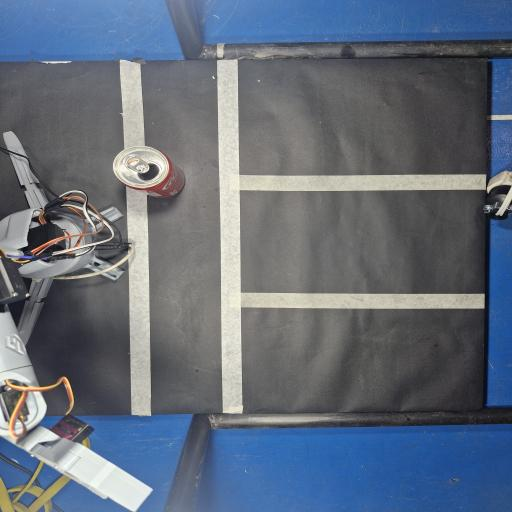lata: (113, 146, 185, 197)
